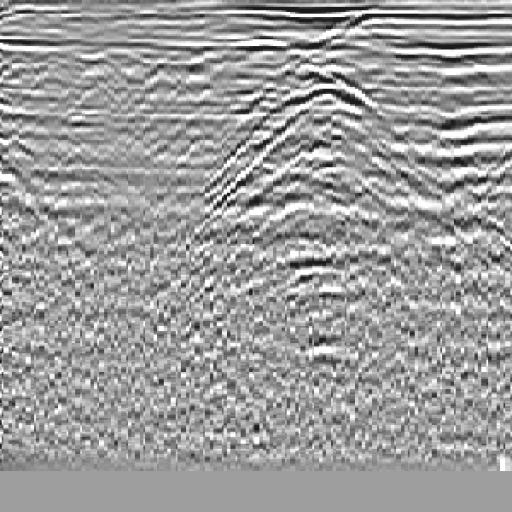metalic: (194, 33, 443, 322)
